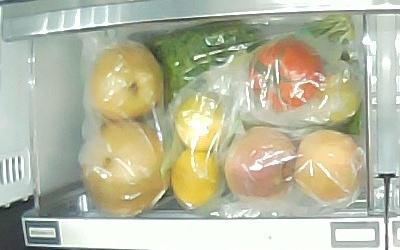peach_vinyl: (226, 126, 298, 200), (294, 129, 362, 205)
pear_vinyl: (80, 120, 166, 213), (87, 39, 164, 120)
tangerine_vinyl: (170, 147, 220, 212), (173, 93, 225, 152)
tomato_vinyl: (245, 36, 325, 116), (311, 72, 360, 123)
